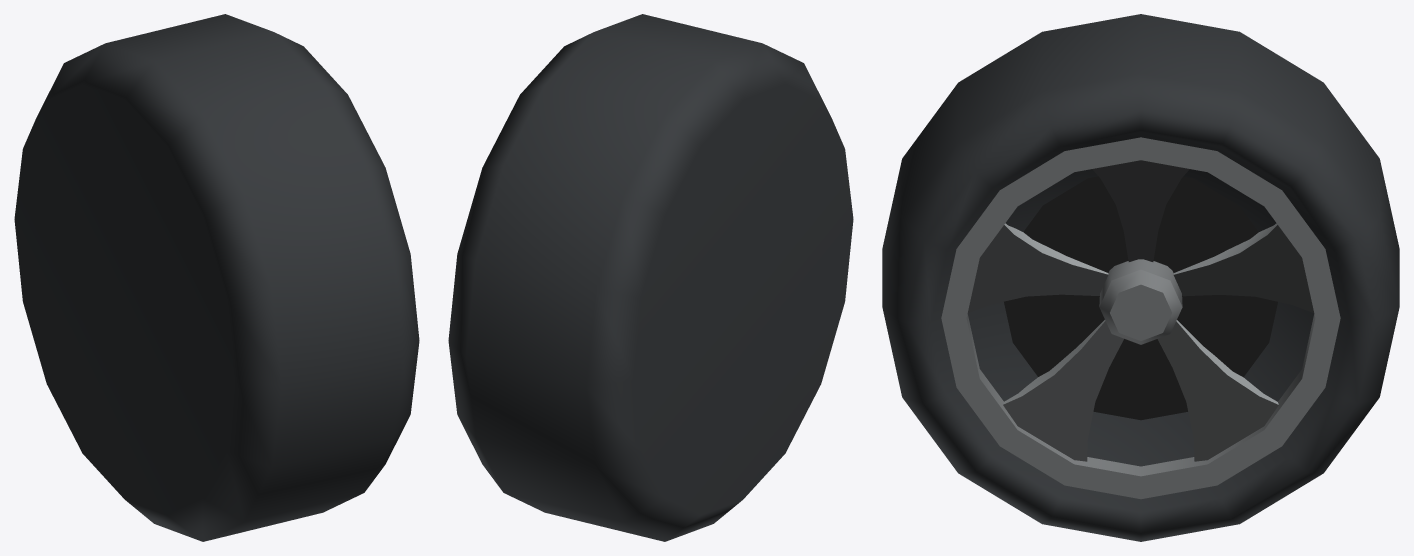
The model's file is Car_13_Wheel_Front_Left.fbx.
3 renders of one model, left to right at view 1: azimuth 30°, elevation 25°; view 2: azimuth 150°, elevation 25°; view 3: azimuth 270°, elevation 25°, orthographic.
Parts seen in each view (by area): view 1: Car_13_Wheel_Front_Left; view 2: Car_13_Wheel_Front_Left; view 3: Car_13_Wheel_Front_Left.
Boxes of the visible parts, x1,y1,x2,y2 form: Car_13_Wheel_Front_Left: (14, 14, 419, 541); Car_13_Wheel_Front_Left: (448, 14, 853, 541); Car_13_Wheel_Front_Left: (882, 14, 1399, 541).
Size of the model in its own units: 32.42 by 80 by 80.
